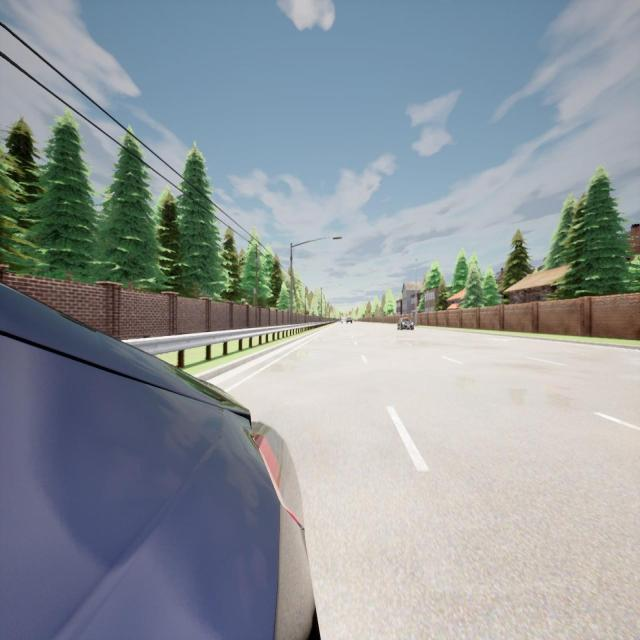Vehicle: (0, 284, 314, 638), (397, 318, 415, 331), (344, 316, 354, 324)
